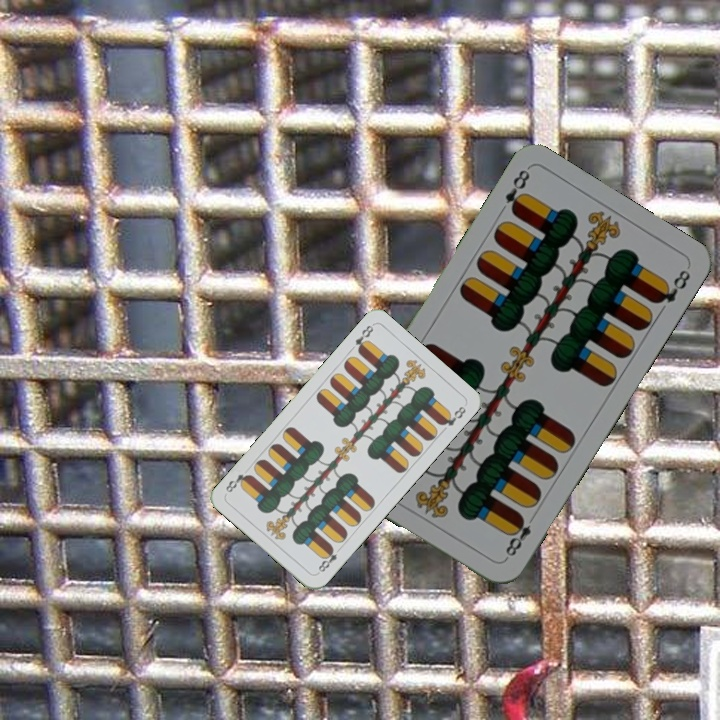E8: (501, 511, 539, 563), (501, 165, 533, 218), (313, 543, 344, 576), (351, 321, 376, 356)
